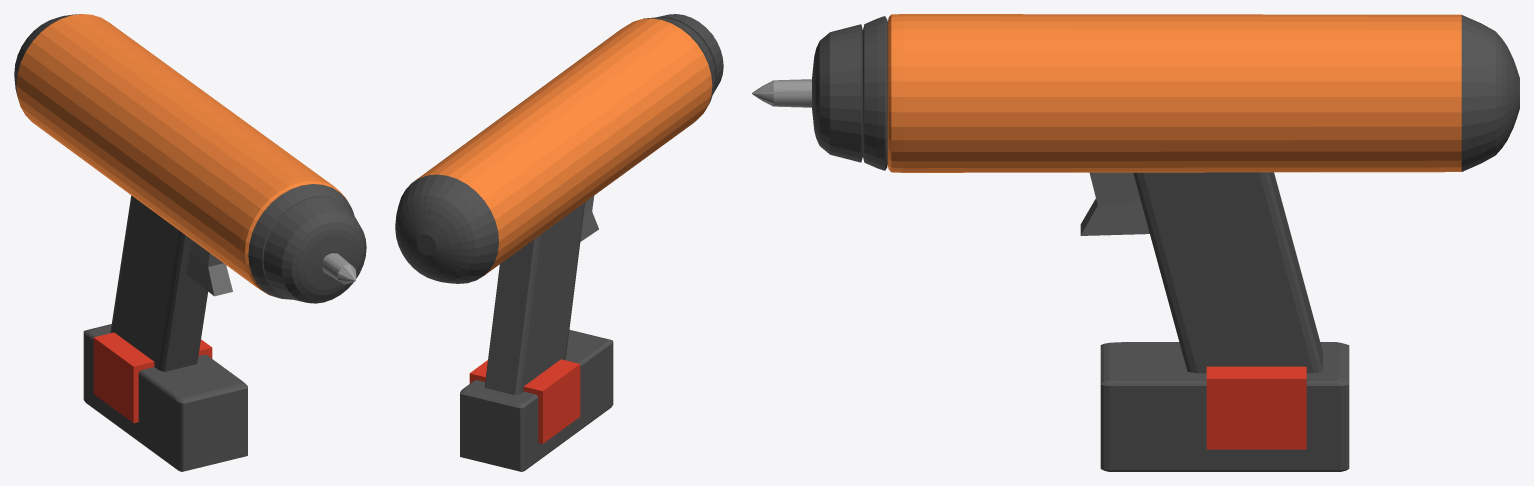
Rendered from Power Drill.fbx.
3 renders of one model, left to right at view 1: azimuth 30°, elevation 25°; view 2: azimuth 150°, elevation 25°; view 3: azimuth 270°, elevation 25°, orthographic. The views are drawn at different scales.
Parts seen in each view (by area): view 1: Cylinder, Cube, Cube.003, Cube.001, Cylinder.001; view 2: Cylinder, Cube, Cube.003, Cube.001; view 3: Cylinder, Cube, Cube.002, Cube.001, Cylinder.001.
Part boxes in pixels (x1=…): Cylinder: x1=14, y1=14, x2=366, y2=303; Cube: x1=83, y1=195, x2=247, y2=471; Cube.003: x1=93, y1=332, x2=154, y2=423; Cube.001: x1=186, y1=240, x2=232, y2=296; Cylinder.001: x1=322, y1=253, x2=356, y2=284; Cylinder: x1=395, y1=14, x2=723, y2=283; Cube: x1=460, y1=202, x2=613, y2=471; Cube.003: x1=523, y1=359, x2=580, y2=443; Cube.001: x1=580, y1=196, x2=598, y2=241; Cylinder: x1=812, y1=14, x2=1519, y2=172; Cube: x1=1100, y1=172, x2=1349, y2=471; Cube.002: x1=1206, y1=366, x2=1306, y2=449; Cube.001: x1=1080, y1=172, x2=1149, y2=235; Cylinder.001: x1=752, y1=79, x2=811, y2=107.
Bounding box in the file's own units: 318 × 951 × 1535.
